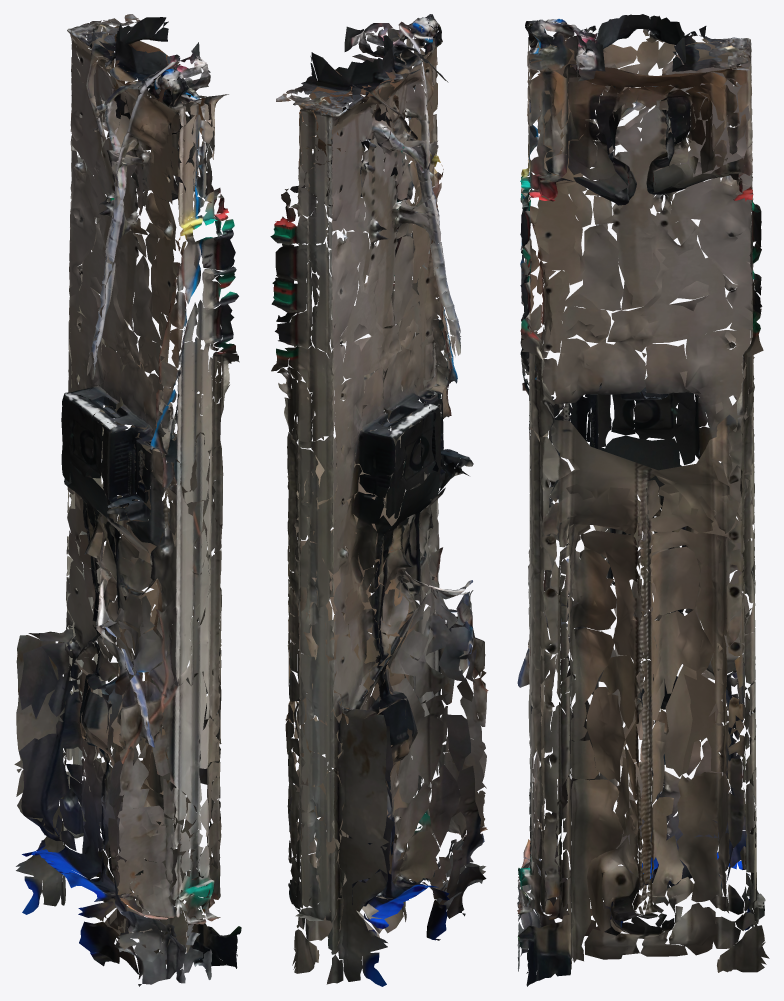
Rendered from column.dae.
The picture shows the model from 3 angles, left to right: view 1: azimuth 30°, elevation 25°; view 2: azimuth 150°, elevation 25°; view 3: azimuth 270°, elevation 25°; orthographic projection. The views are drawn at different scales.
Parts seen in each view (by area): view 1: column; view 2: column; view 3: column.
Part boxes in pixels (x1,y1,x2,y2): column: (14,14,241,986); column: (270,14,488,986); column: (517,14,769,986).
Bounding box in the file's own units: 0.138 × 0.2424 × 0.9983.
1 material, 1 textured.
